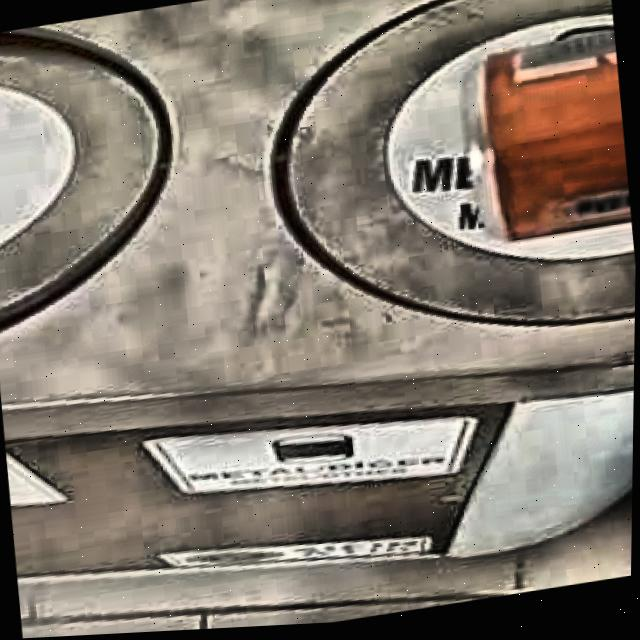metal: (483, 34, 632, 246)
